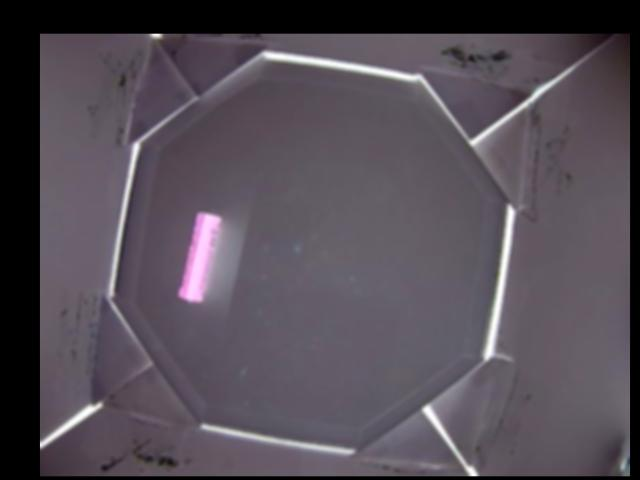Battery: (177, 210, 221, 302)
